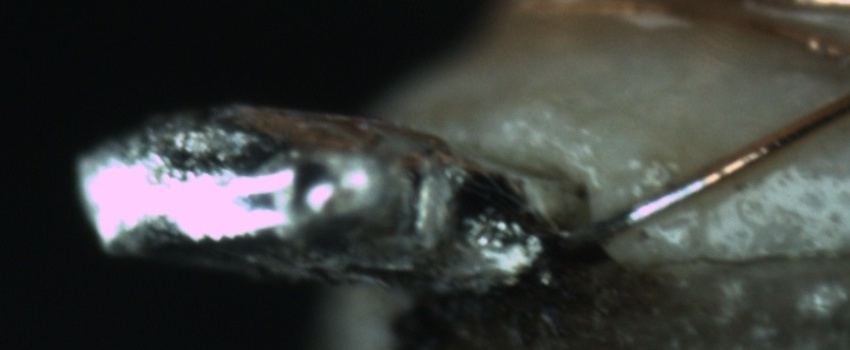TS: (557, 175, 712, 244)
